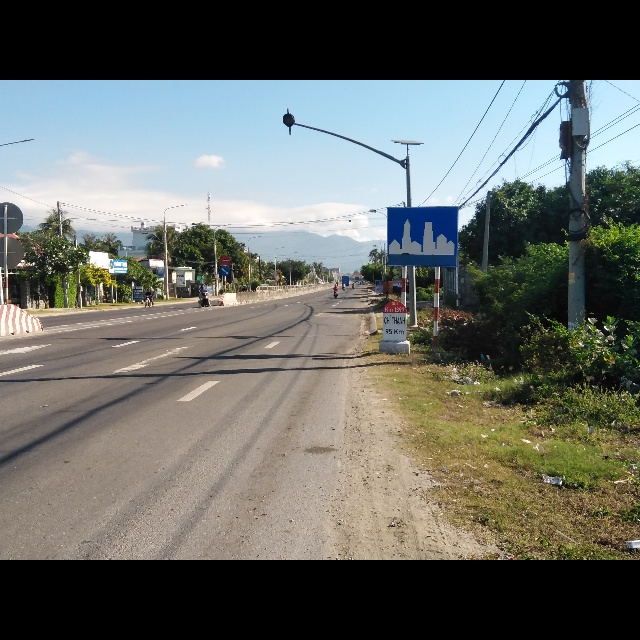Khu đông dân cư: (386, 204, 461, 266)
